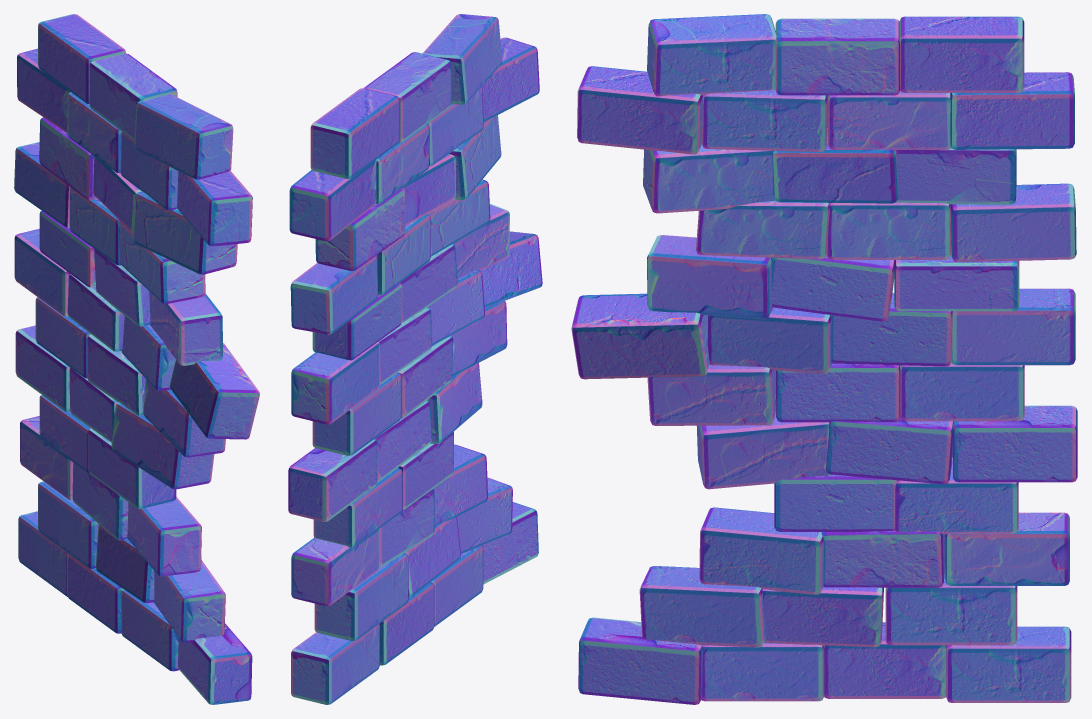
The model's file is Dungeon_WallBricksSmallFade2.fbx.
The picture shows the model from 3 angles, left to right: view 1: azimuth 30°, elevation 25°; view 2: azimuth 150°, elevation 25°; view 3: azimuth 270°, elevation 25°; orthographic projection. The views are drawn at different scales.
Visible parts, largest first — view 1: MeshHP; view 2: MeshHP; view 3: MeshHP.
Part boxes in pixels (box(x1,y1,x2,y2)): MeshHP: box(14, 14, 259, 704); MeshHP: box(288, 14, 542, 704); MeshHP: box(571, 14, 1077, 704).
Size of the model in its own units: 0.4662 by 4 by 2.75.
